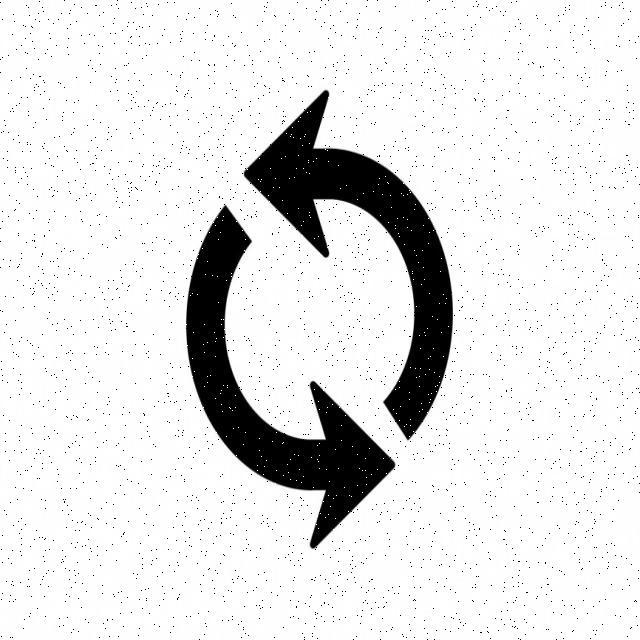Circle: (188, 148, 457, 488)
